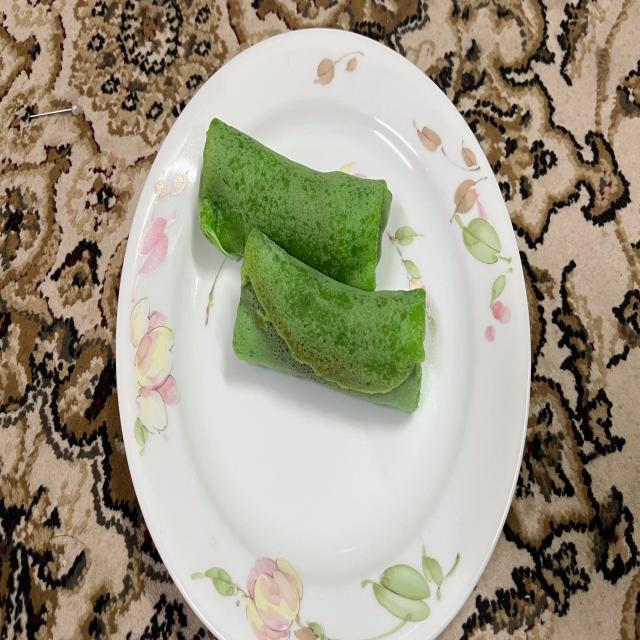Kuih-Ketayap: (232, 229, 426, 411), (199, 118, 392, 291)
